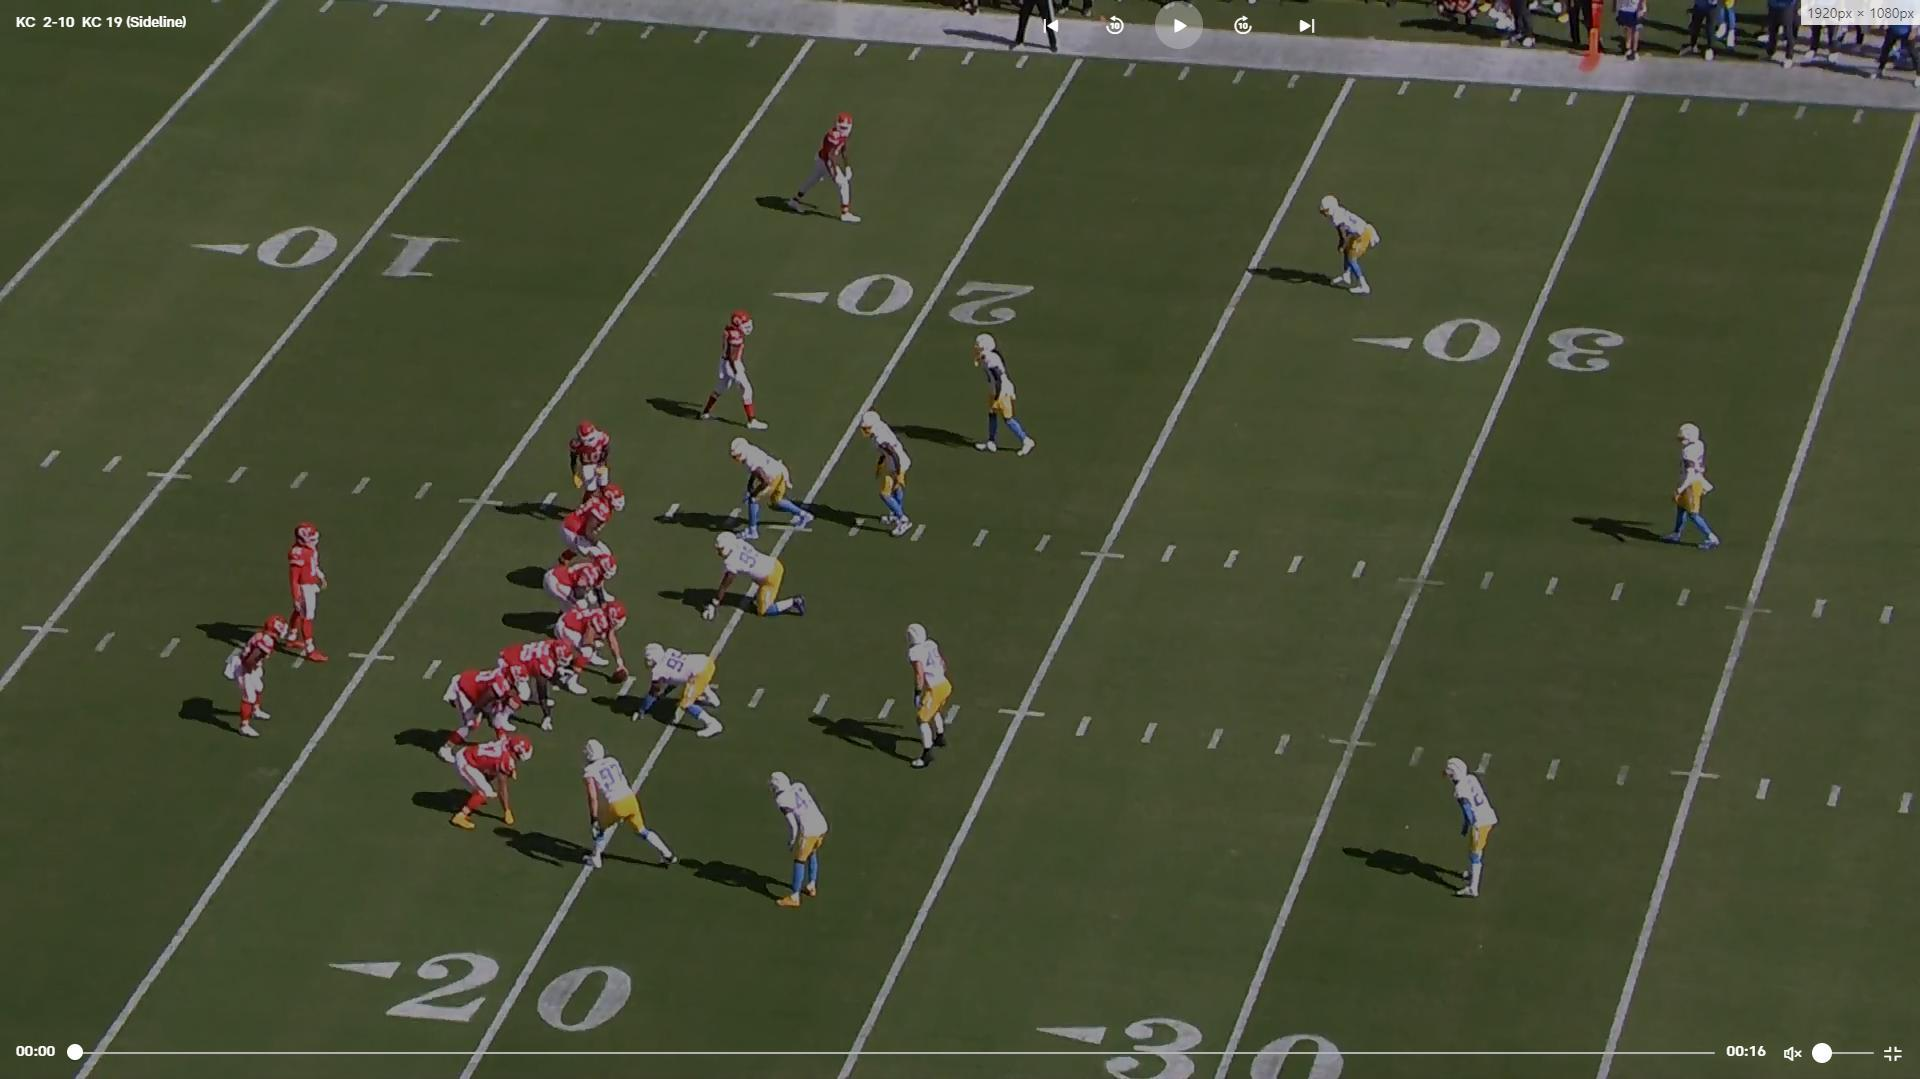defense: (580, 740, 683, 876), (699, 529, 808, 625), (732, 435, 824, 541), (633, 641, 727, 744), (770, 770, 836, 911), (1445, 757, 1505, 906), (978, 326, 1046, 456), (1662, 418, 1725, 554), (855, 408, 916, 546), (905, 625, 957, 777), (1321, 193, 1383, 301)
oline: (438, 661, 533, 766), (551, 599, 629, 691), (495, 634, 572, 722), (547, 491, 620, 575), (547, 550, 620, 613)
qb: (276, 520, 330, 666)
skill: (790, 107, 866, 231), (694, 309, 764, 437), (455, 731, 535, 836), (224, 611, 287, 739), (566, 418, 615, 513)
